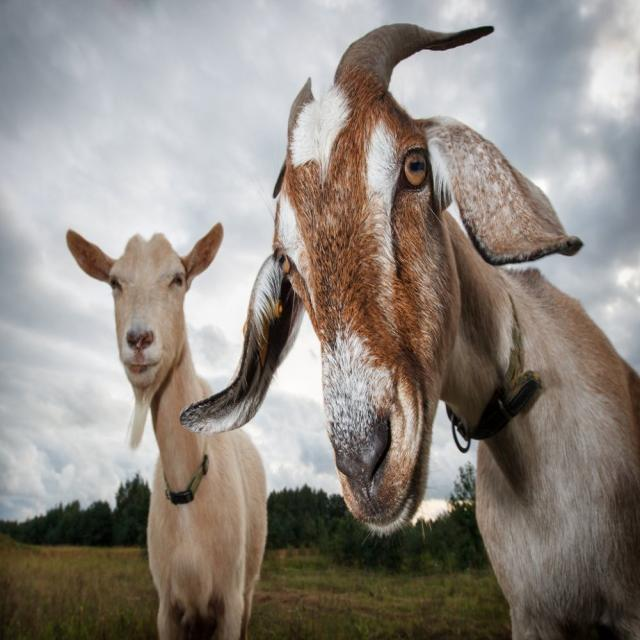goat: (244, 83, 455, 494), (89, 215, 202, 466)
